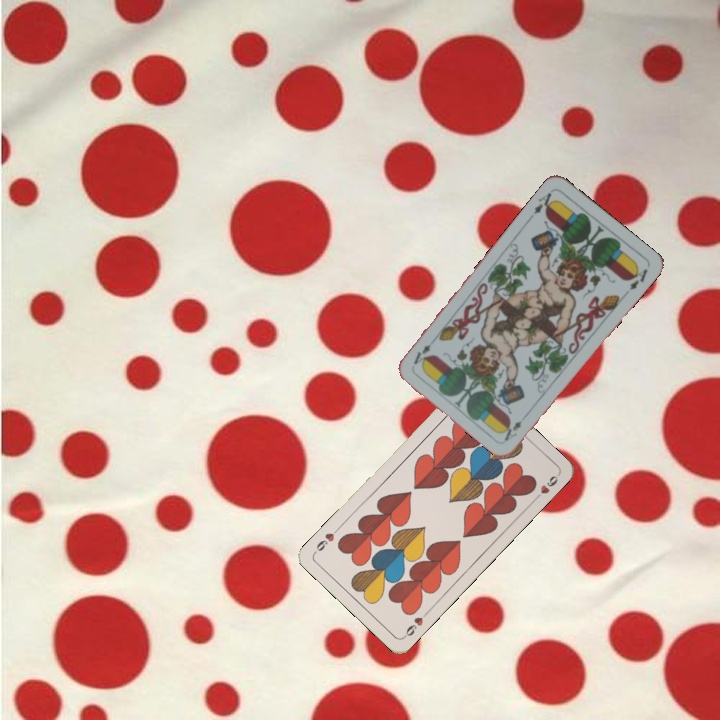EA: (529, 187, 558, 217), (500, 417, 525, 444)
H9: (399, 608, 431, 640)
